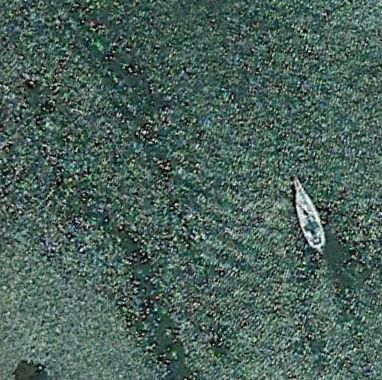boat: (292, 176, 325, 250)
